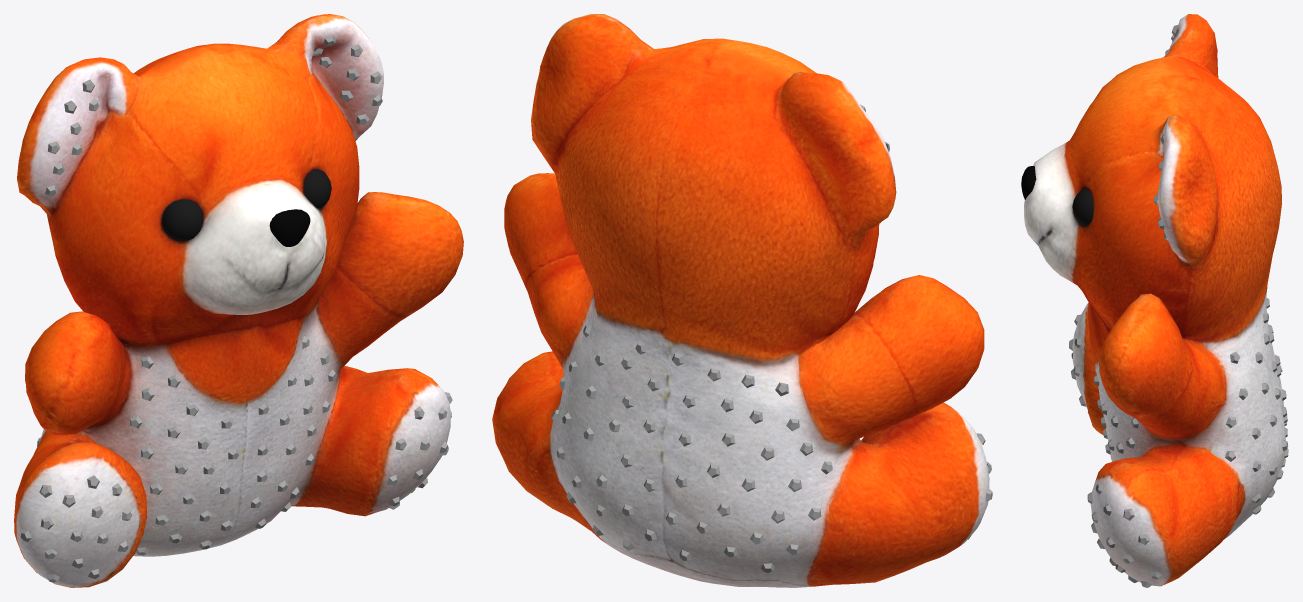
The model's file is plush_toy.glb.
3 views of the same model, side by side, from view 1: azimuth 30°, elevation 25°; view 2: azimuth 150°, elevation 25°; view 3: azimuth 270°, elevation 25° (orthographic). The views are drawn at different scales.
Visible parts, largest first — view 1: Plane, Cylinder.011, Cube.001, Cube.002, Cube; view 2: Plane, Cylinder.011; view 3: Plane, Cylinder.011, Cube, Cube.002.
Part boxes in pixels (x1,y1,x2,y2): Plane: [14, 14, 463, 587]; Cylinder.011: [20, 35, 452, 582]; Cube.001: [162, 199, 203, 241]; Cube.002: [269, 209, 310, 246]; Cube: [303, 169, 331, 208]; Plane: [492, 14, 989, 587]; Cylinder.011: [551, 104, 992, 572]; Plane: [1024, 14, 1285, 586]; Cylinder.011: [1069, 25, 1288, 587]; Cube: [1072, 188, 1093, 225]; Cube.002: [1021, 166, 1036, 199].
Size of the model in its own units: 5.35 by 5.64 by 3.03.
Materials: 4 (1 with a texture image).
